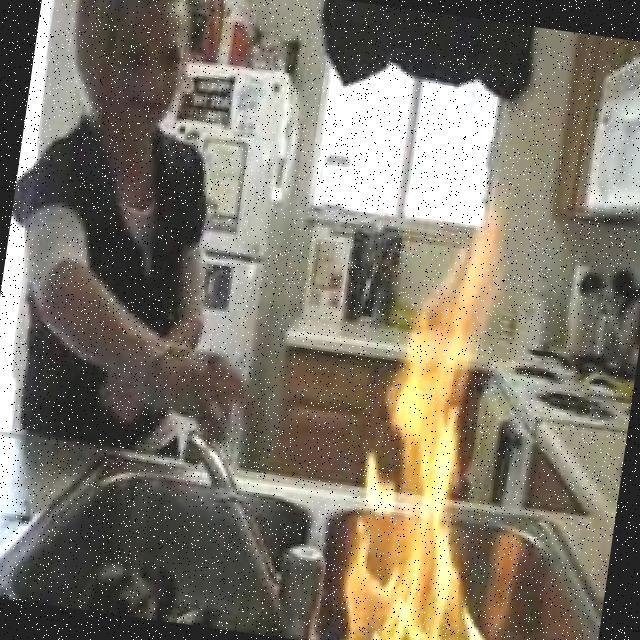Fire: (338, 196, 525, 640)
